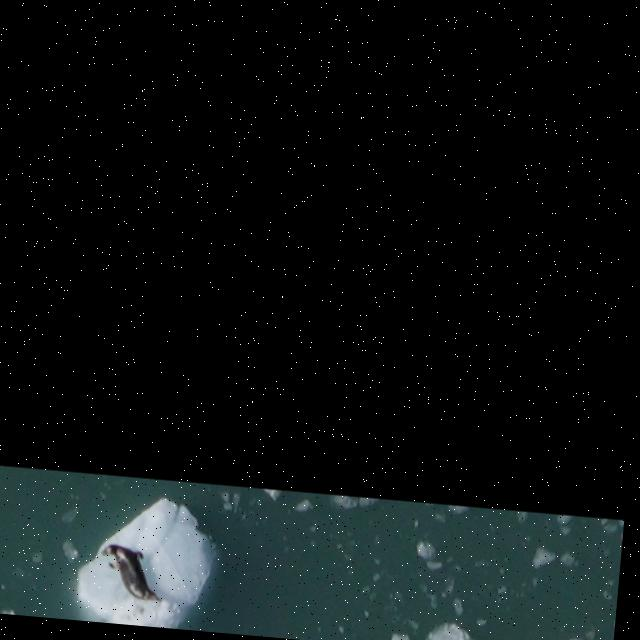seal: (94, 540, 167, 607)
